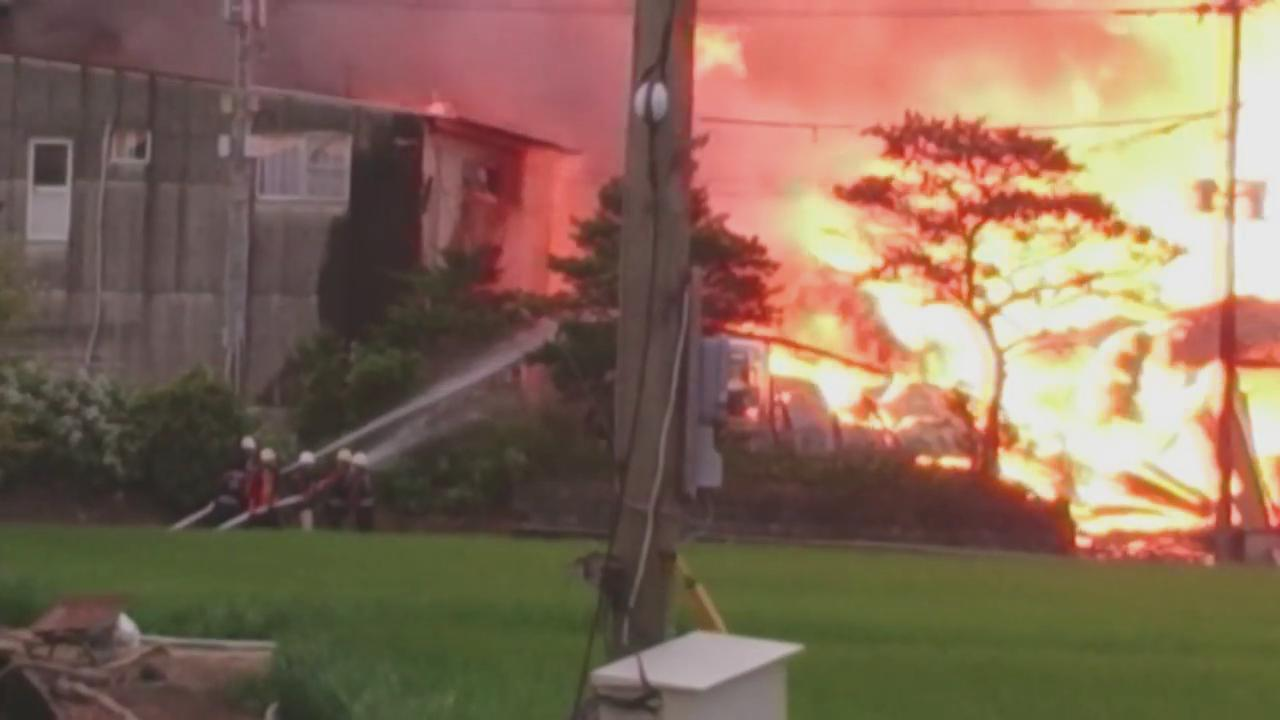Fire: (781, 11, 1277, 540)
